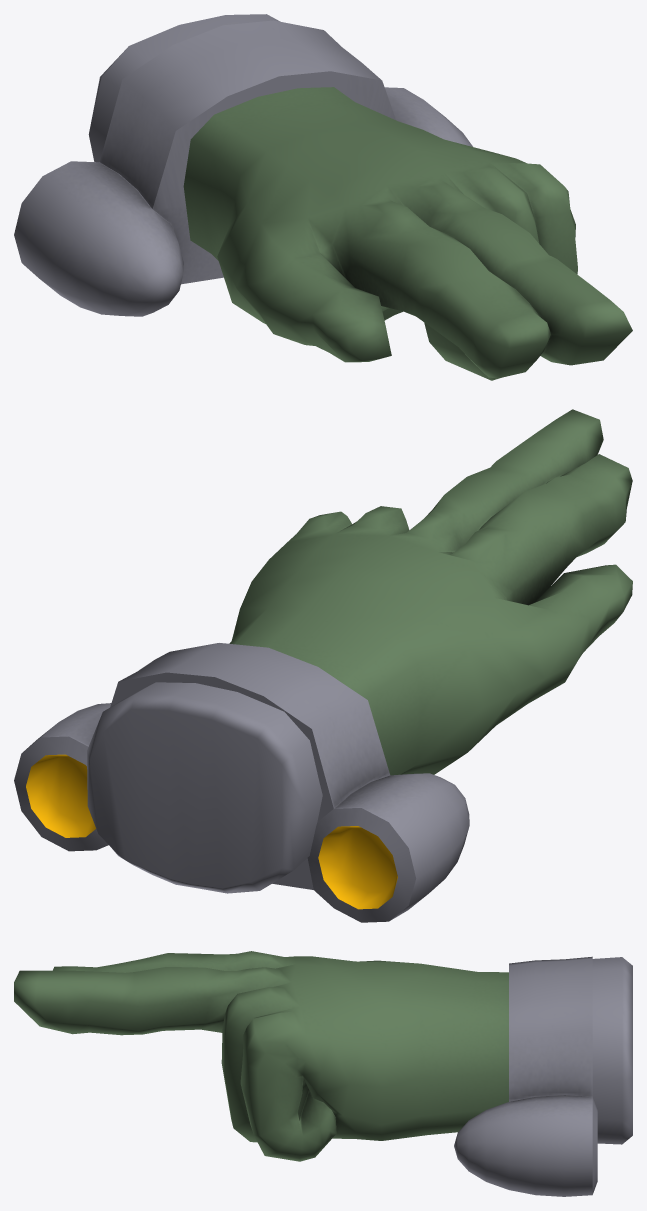
The model's file is botRocketHandGun.fbx.
3 views of the same model, one above another, from view 1: azimuth 30°, elevation 25°; view 2: azimuth 150°, elevation 25°; view 3: azimuth 270°, elevation 25° (orthographic). The views are drawn at different scales.
Parts seen in each view (by area): view 1: RocketHandGun, RocketHand_rockets; view 2: RocketHandGun, RocketHand_rockets; view 3: RocketHandGun, RocketHand_rockets.
Part boxes in pixels (left/top/right/bottom): RocketHandGun: left=88, top=14, right=632, bottom=380; RocketHand_rockets: left=14, top=20, right=472, bottom=316; RocketHandGun: left=87, top=409, right=632, bottom=893; RocketHand_rockets: left=14, top=643, right=469, bottom=922; RocketHandGun: left=14, top=951, right=632, bottom=1161; RocketHand_rockets: left=454, top=956, right=597, bottom=1196.
Bounding box in the file's own units: 3.71 × 1.86 × 6.28.
